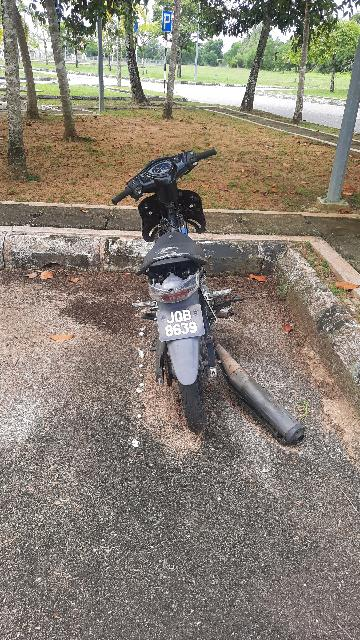License_Plate: (150, 300, 211, 346)
motorcycle: (110, 135, 315, 452)
